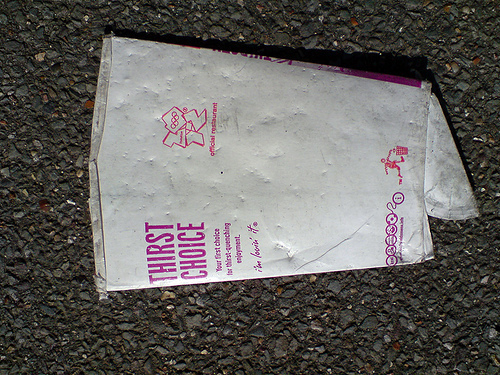litter: (92, 36, 481, 291)
